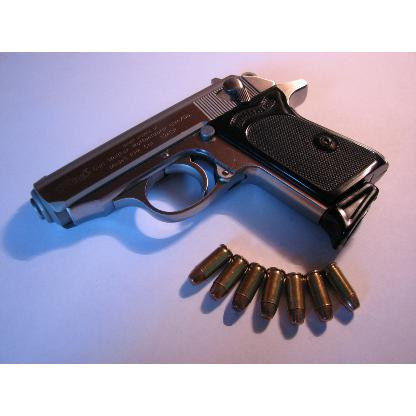gun: (30, 70, 390, 250)
